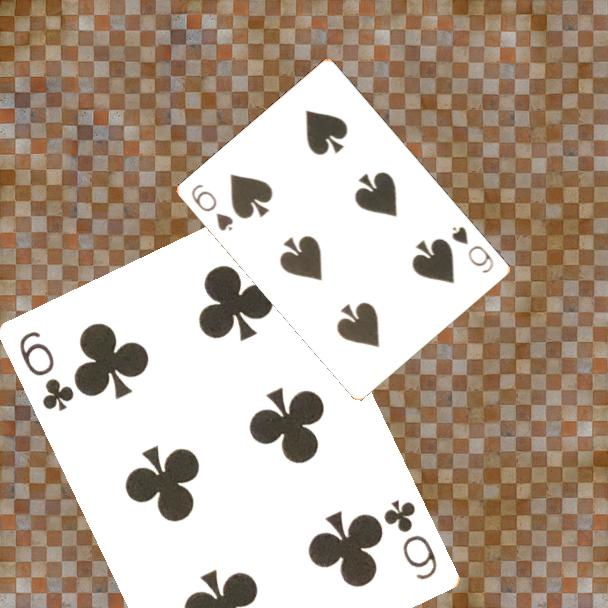c06: (16, 327, 78, 415), (380, 496, 441, 583)
s06: (448, 223, 497, 276), (188, 181, 236, 234)
